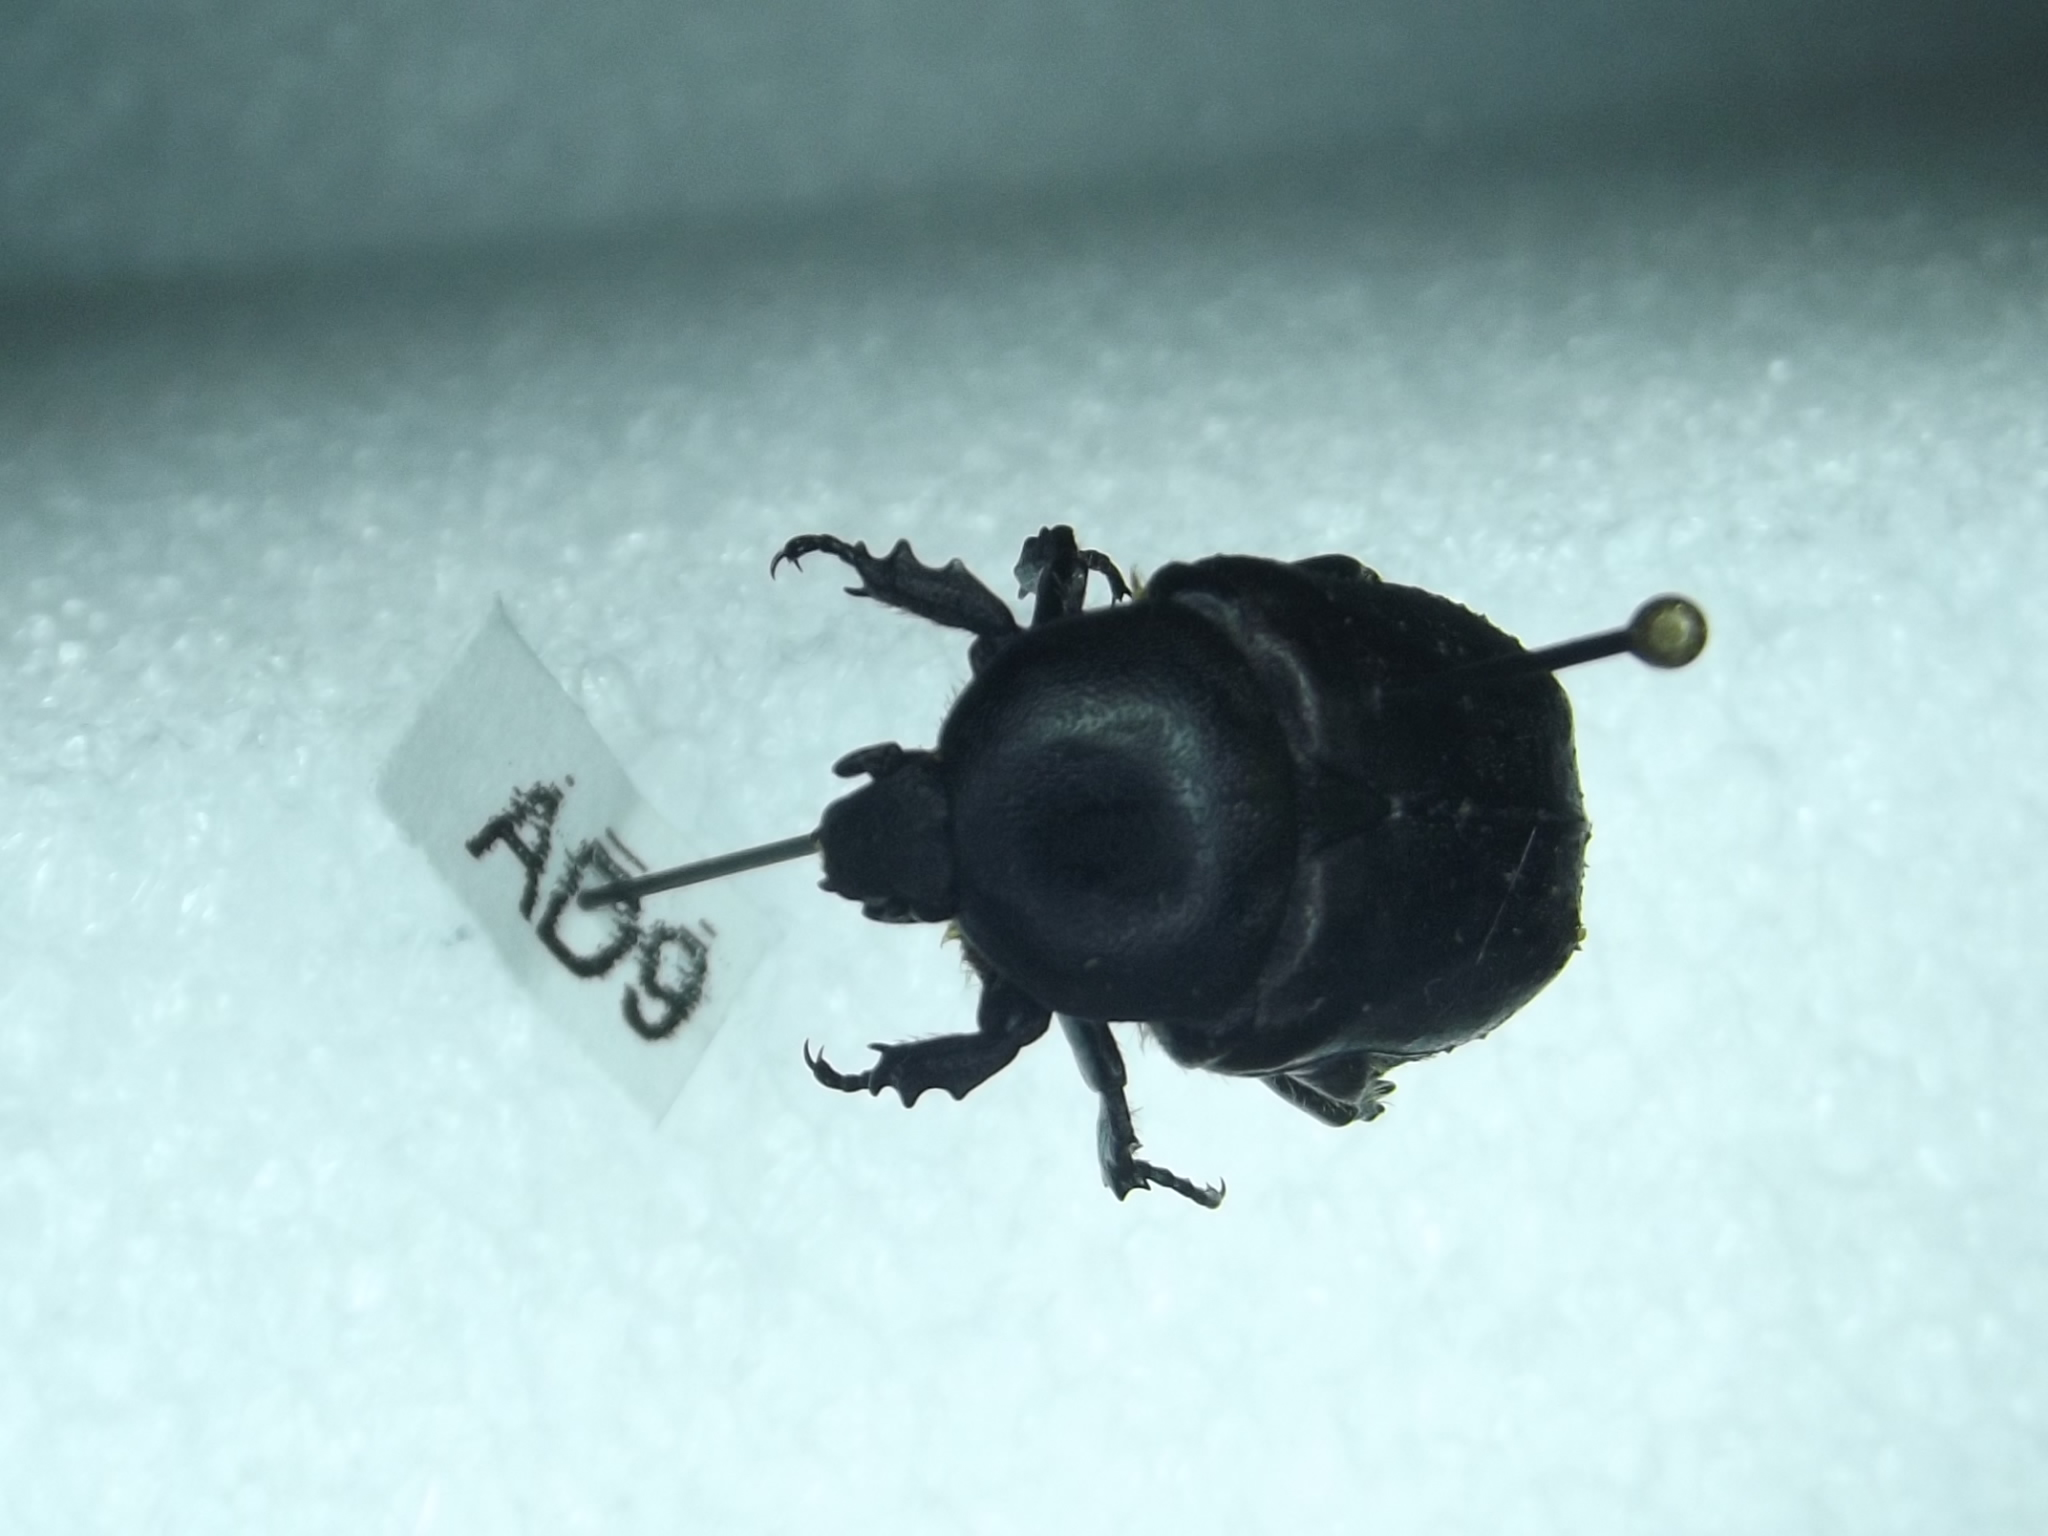Protaetia_vidua: (726, 465, 1600, 1213)
